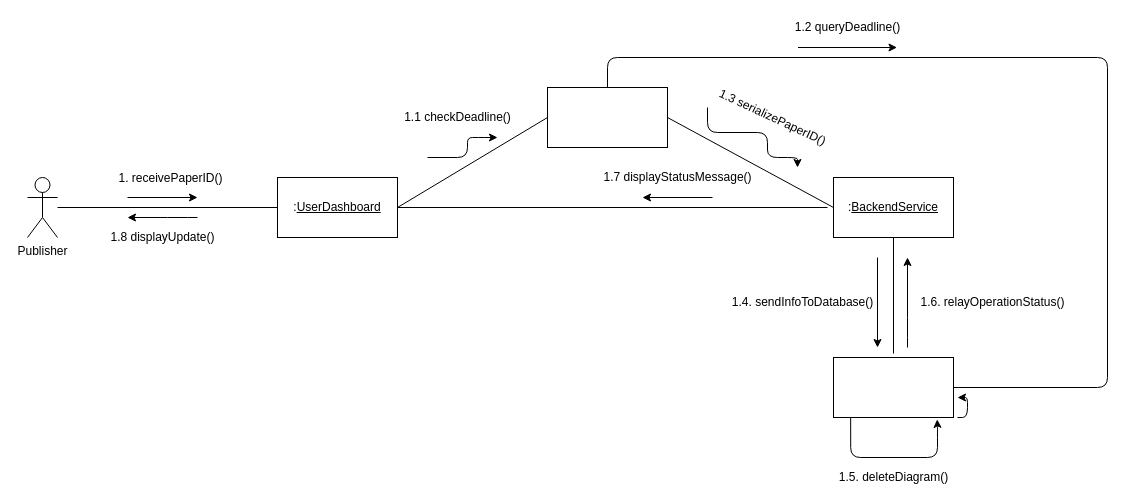
The diagram is 1126 pixels wide and 504 high, and some of its shapes have lost their labels. The box of each missing label's shape, as (x1, y1, x2, y2) in pixels:
: DatabaseServer: (832, 356, 954, 418)
:PaperValidator: (546, 86, 668, 148)
